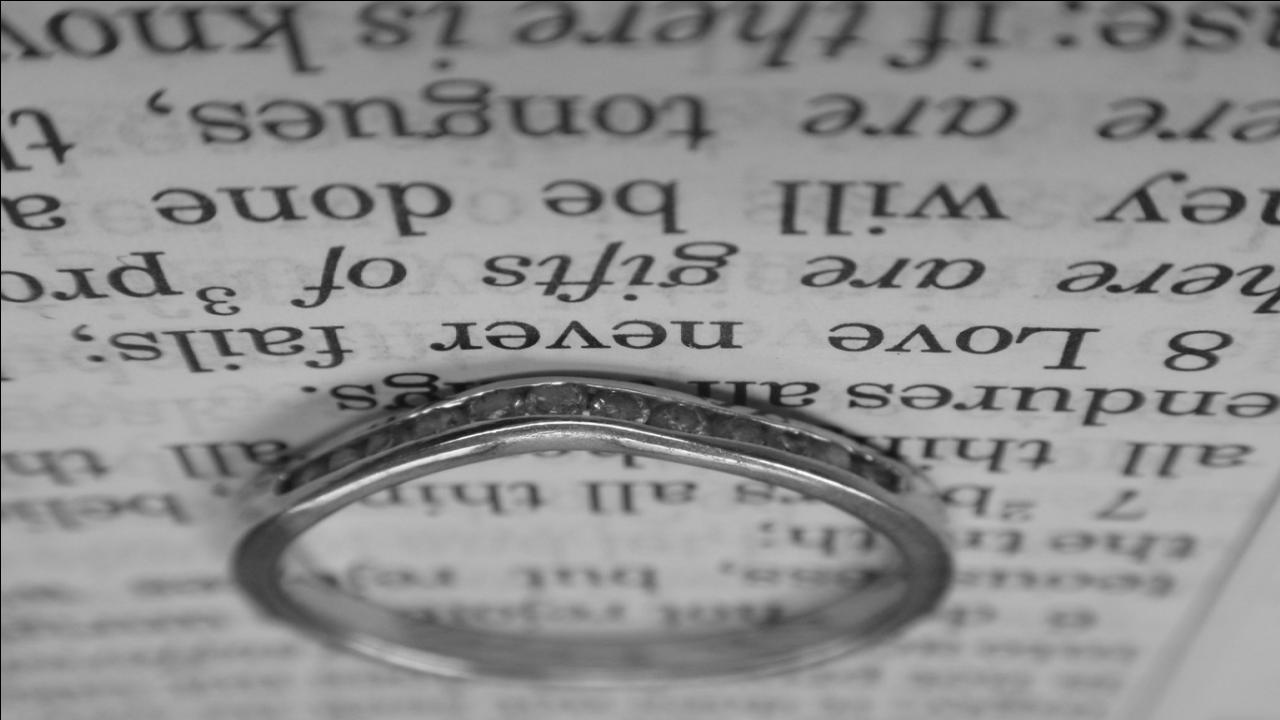ring: (219, 371, 963, 693)
